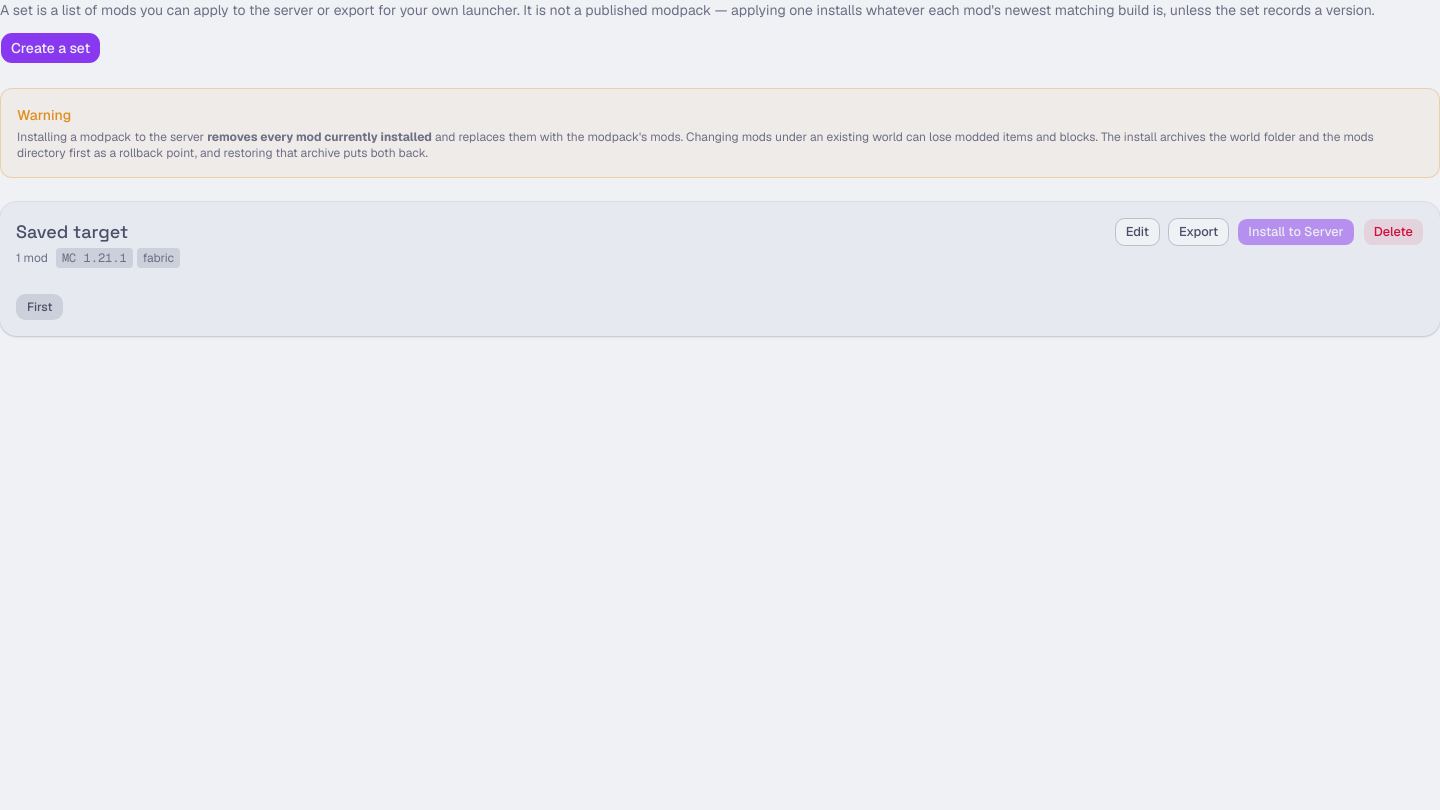
Test: export completeness › does not label a saved NeoForge target as Forge
Click the button "Export" at point(1199, 232), box [1168,218,1229,246]
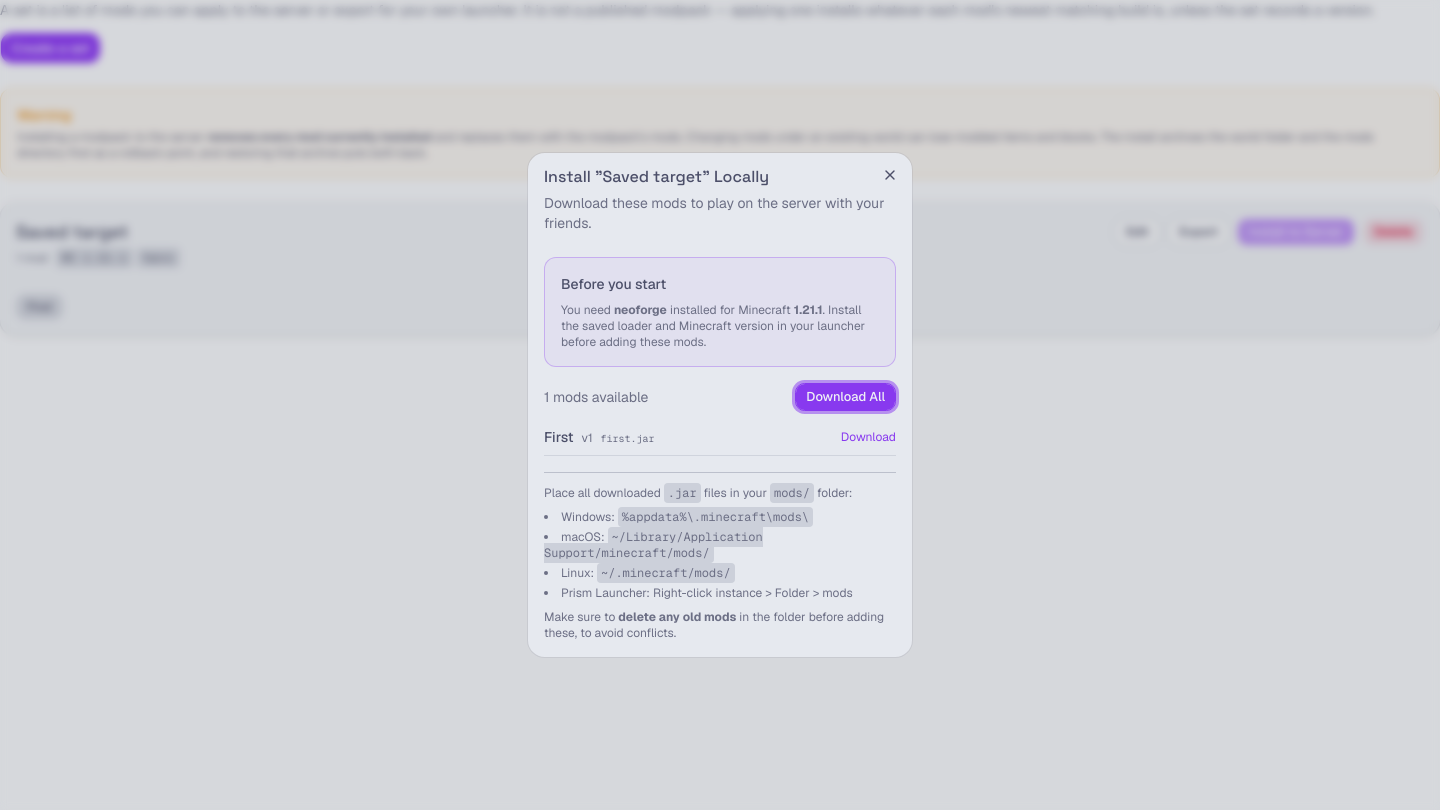
Now the heading "Install \"Saved target\" Locally" is shown, box [544,166,769,187]
Now the text "neoforge" is shown, box [614,302,667,318]
